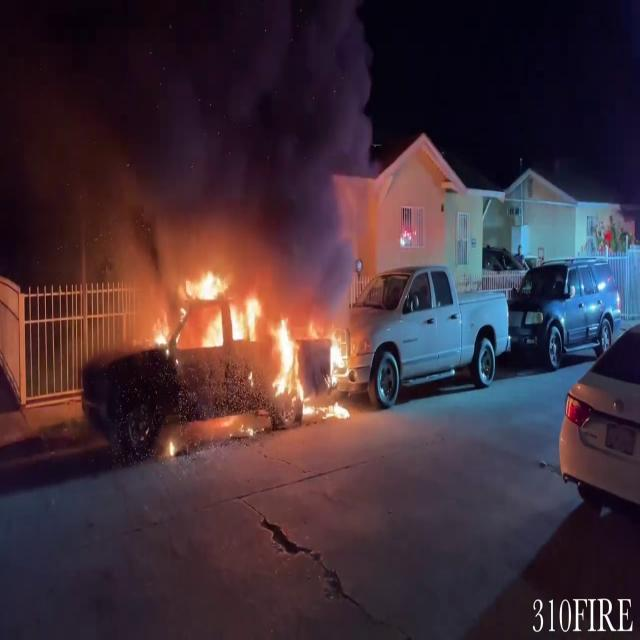Fire: (174, 259, 360, 417)
Smoke: (77, 0, 380, 301)
